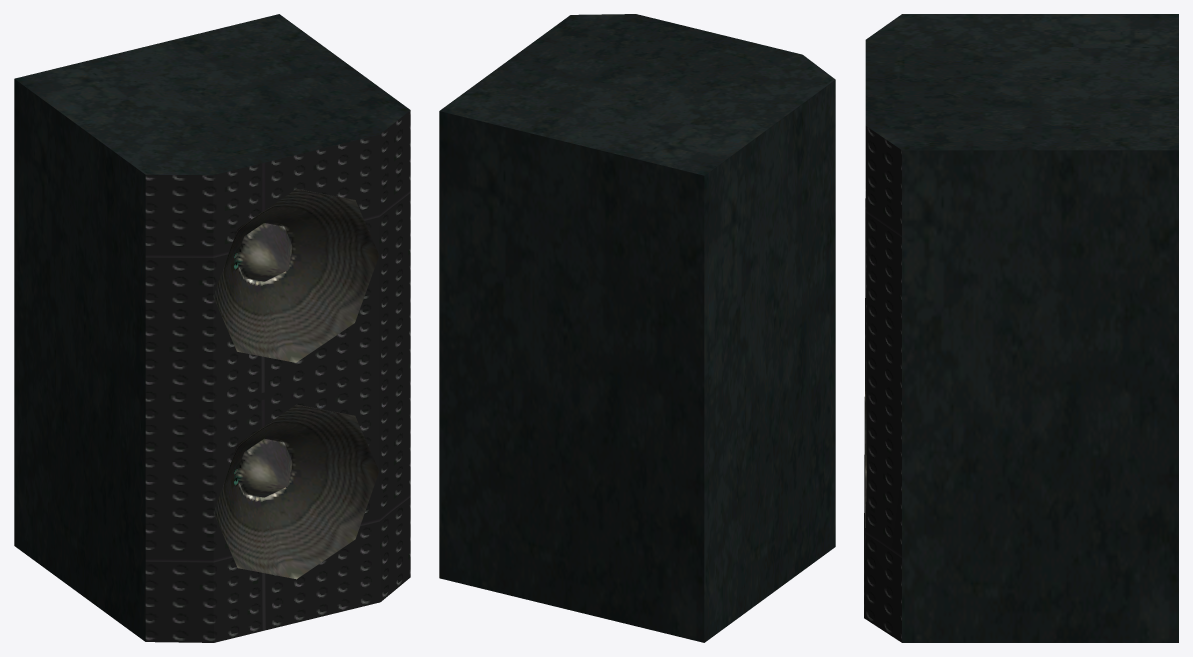
Rendered from med_speaker_4.obj.
3 views of the same model, side by side, from view 1: azimuth 30°, elevation 25°; view 2: azimuth 150°, elevation 25°; view 3: azimuth 270°, elevation 25° (orthographic). The views are drawn at different scales.
Visible parts, largest first — view 1: MED_SPEAKER_4; view 2: MED_SPEAKER_4; view 3: MED_SPEAKER_4.
Boxes of the visible parts, box(x1,y1,x2,y2) form: MED_SPEAKER_4: box(14, 14, 410, 642); MED_SPEAKER_4: box(439, 14, 835, 642); MED_SPEAKER_4: box(864, 14, 1178, 642).
Bounding box in the file's own units: 0.7123 × 1.2 × 0.6949.
